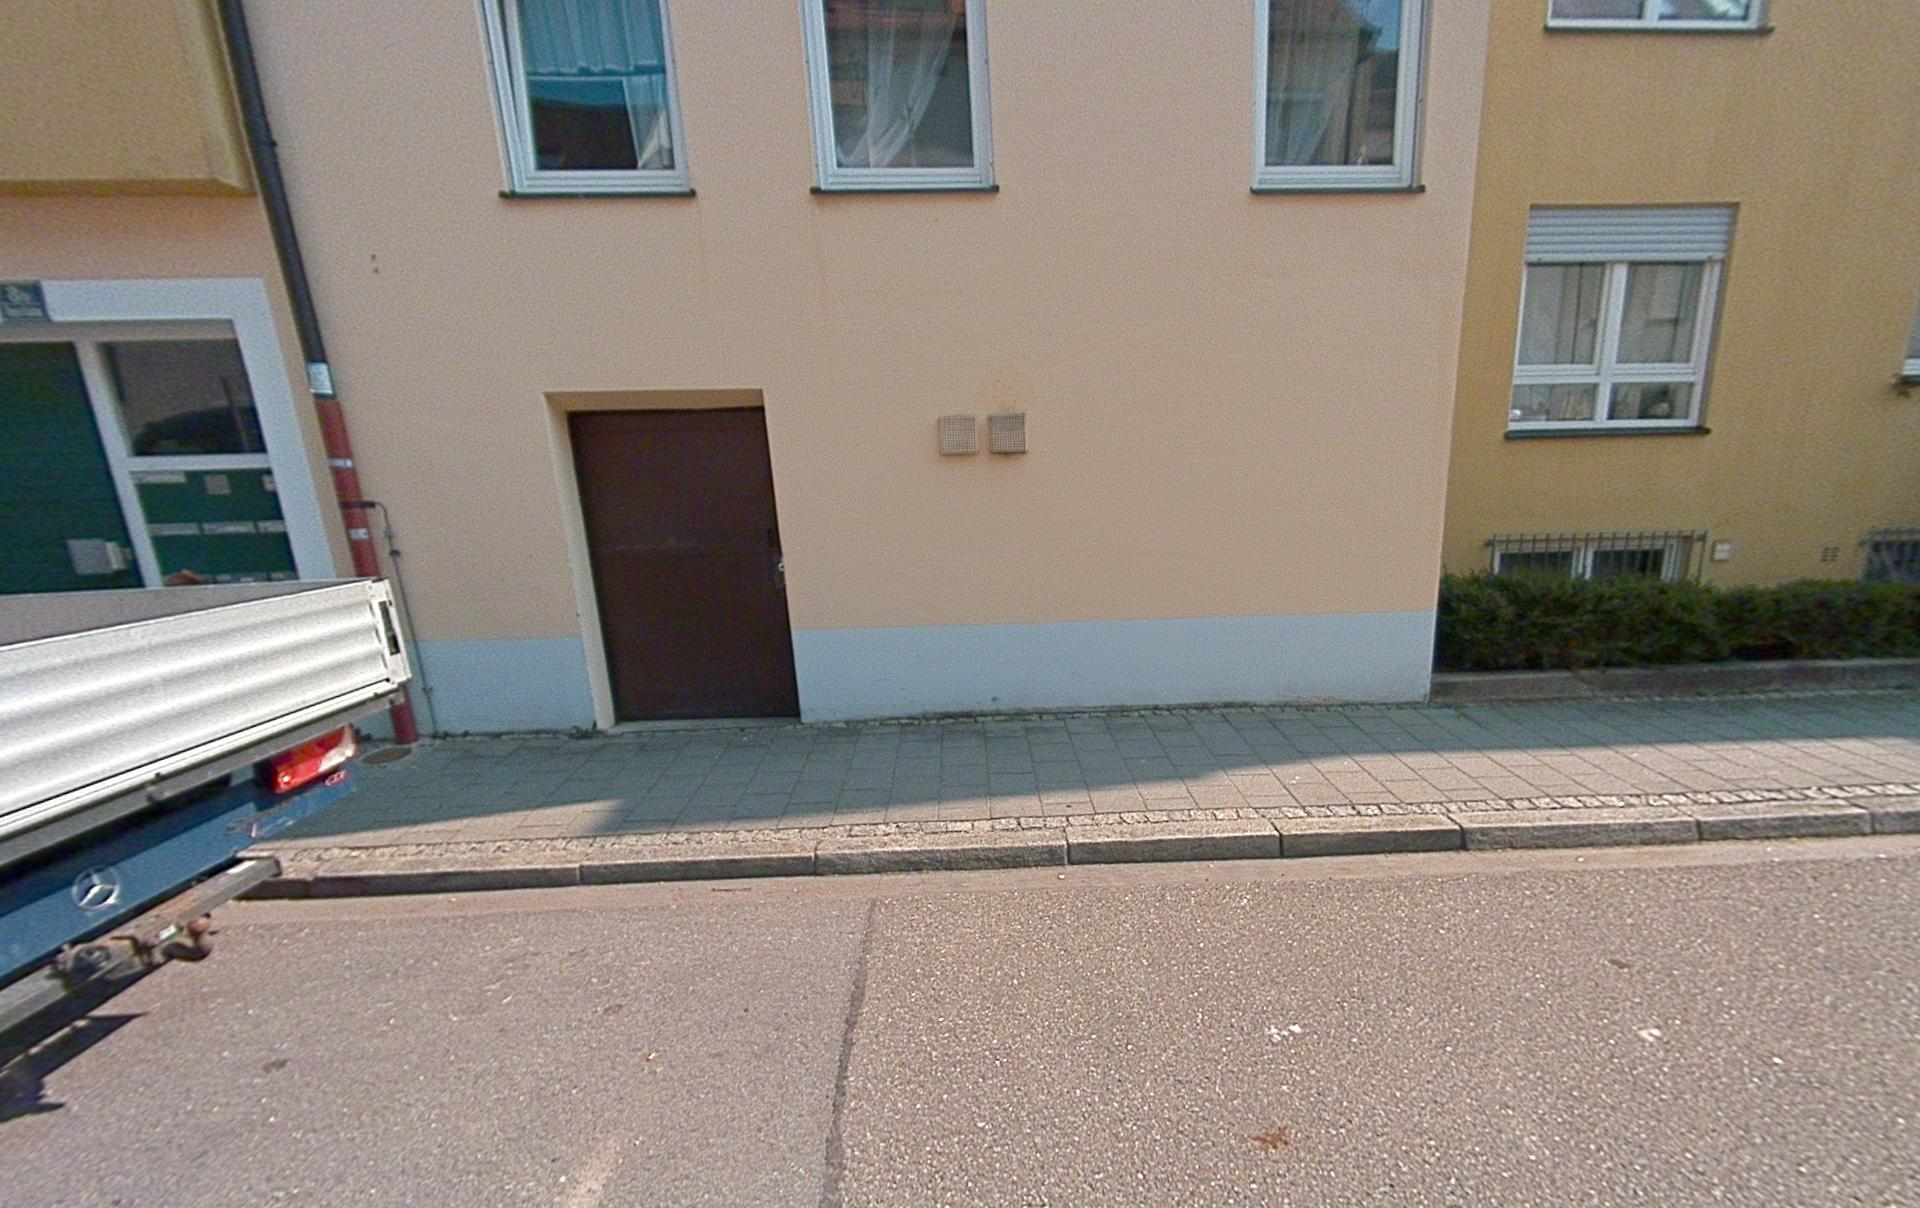car: (1, 574, 417, 995)
